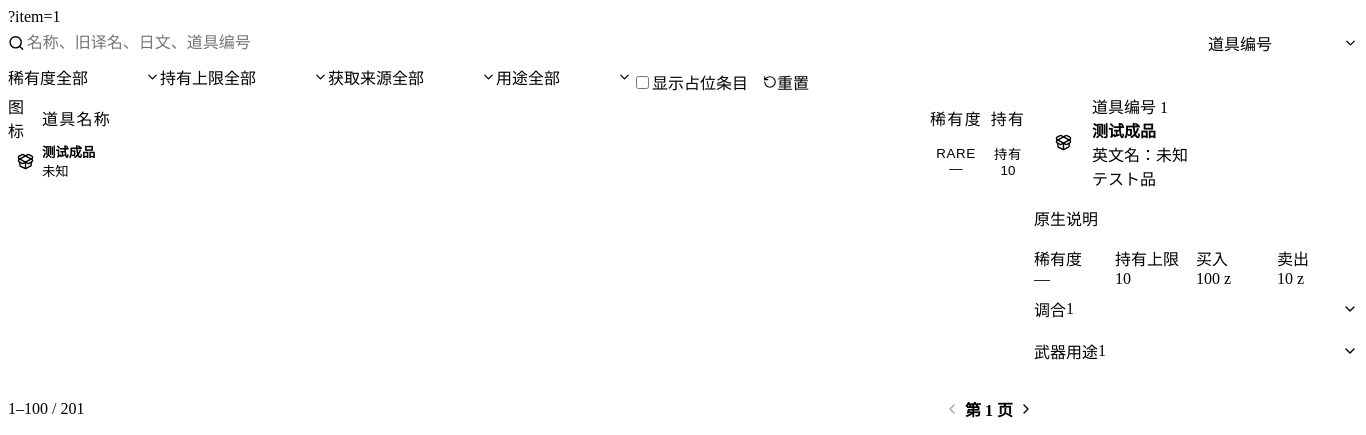
Test case: P2G shared item page › debounces search and displays empty and error results
Expected: the text "原生说明" is shown, [1034,211,1098,228]
Step 1. Type "没有结果" into the field named "搜索道具" → [616, 43], box [25,25,1208,61]
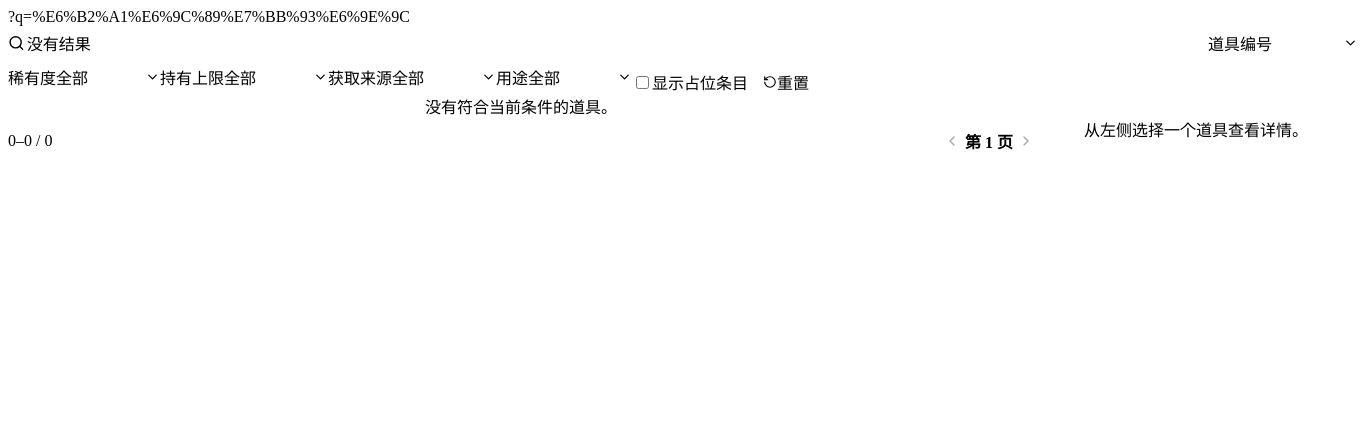
Result: the text "没有符合当前条件的道具。" is shown at [425,99,617,116]
Step 2. Replace the text in the field named "搜索道具" with "错误" → [616, 43], box [25,25,1208,61]
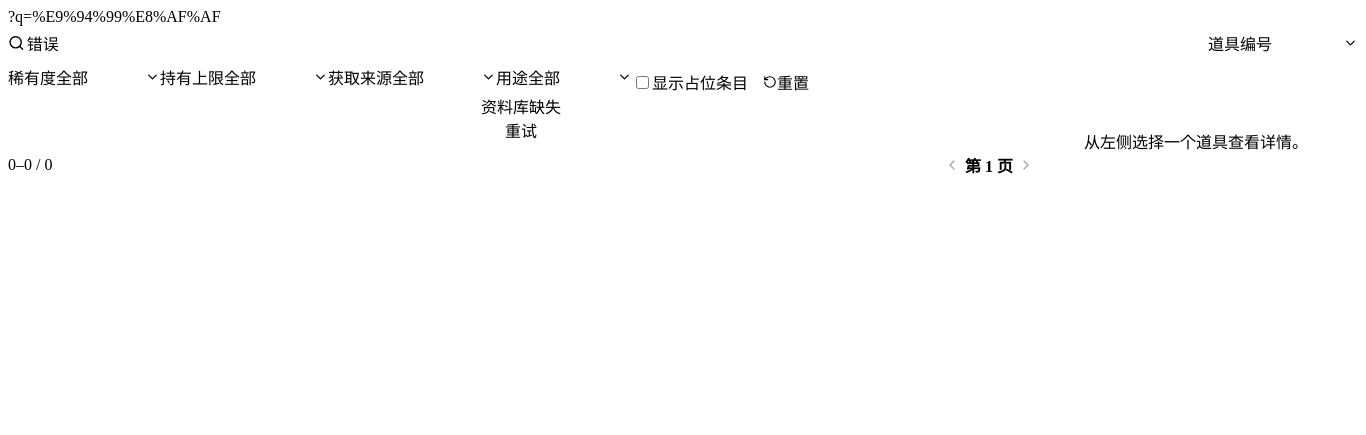
Result: the text "资料库缺失" is shown at [481,99,561,116]
